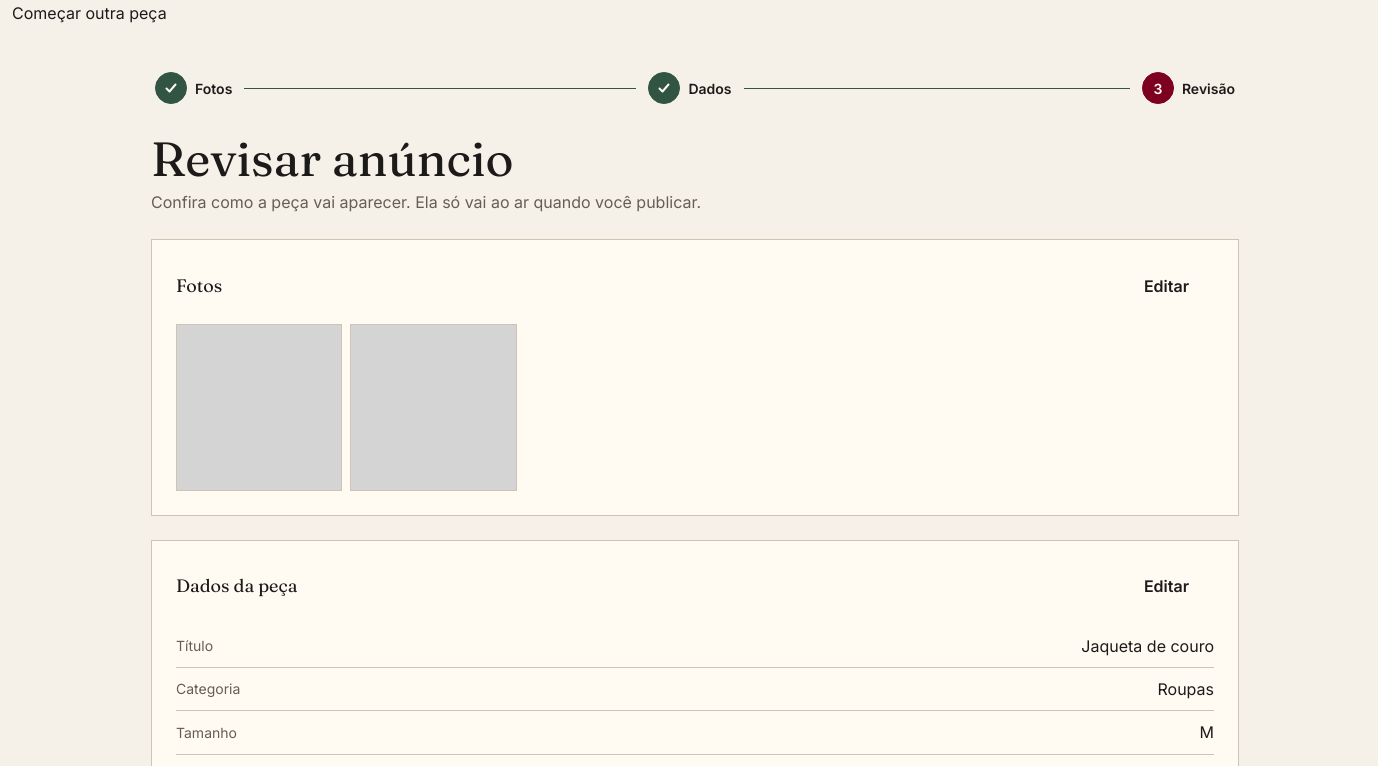
Test: Review › "Editar dados da peça" volta ao formulário focando Título
This screenshot has width=1378, height=766.
Click the button with aria-label "Editar dados da peça" at (1166, 586), box [1119,564,1214,608]
(page scrolled)
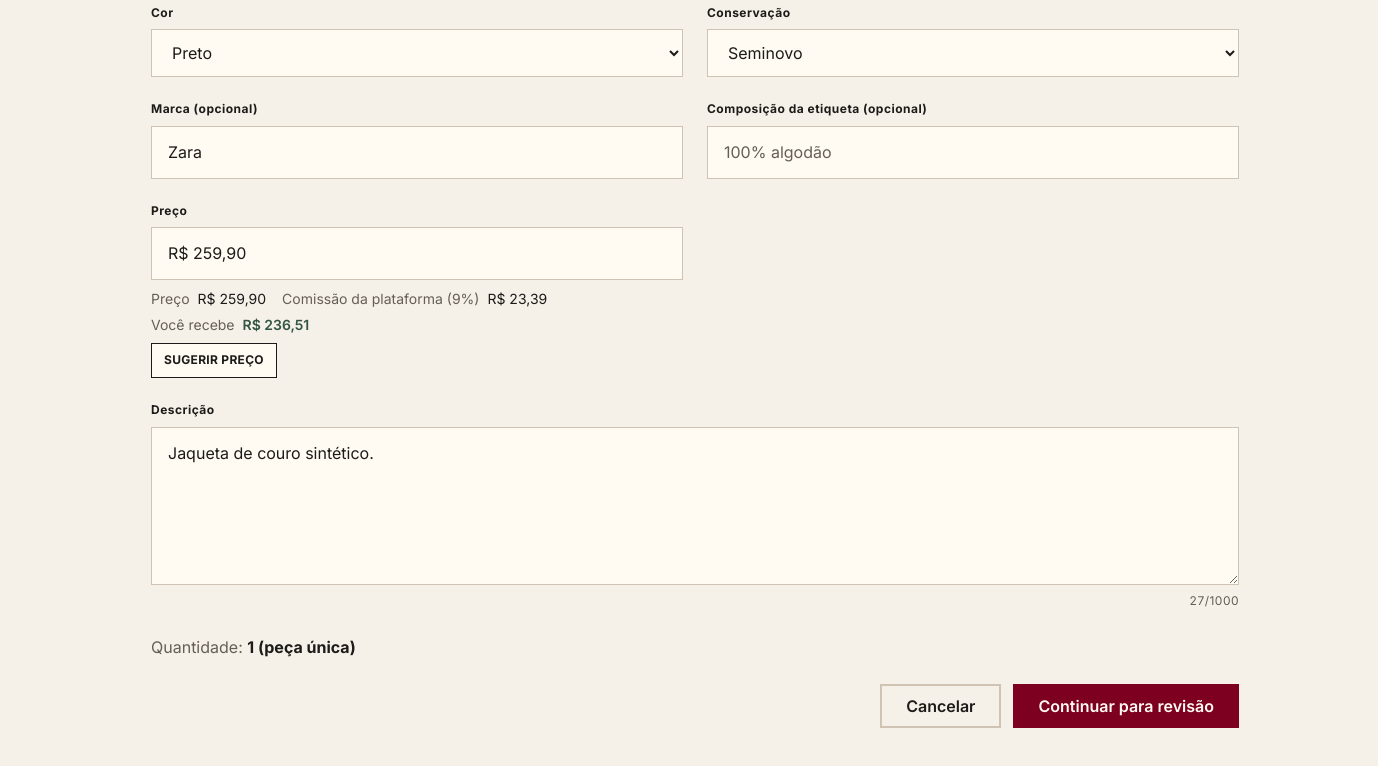
Expected: the button "Continuar para revisão" is shown, [1014,684,1239,728]
